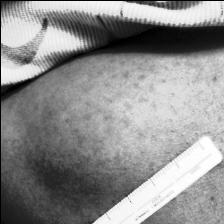Unclassified: (40, 84, 152, 184)
